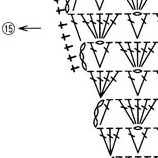enseble_chain: (90, 39, 121, 73), (130, 37, 158, 73), (114, 94, 142, 129), (89, 98, 119, 130), (130, 68, 158, 101), (129, 11, 157, 43), (116, 38, 142, 72), (131, 126, 157, 157), (122, 62, 143, 98), (97, 126, 120, 157), (122, 11, 143, 41), (76, 43, 94, 73), (92, 69, 110, 97), (95, 12, 113, 39), (131, 98, 148, 124), (18, 20, 43, 36), (3, 21, 15, 36)
